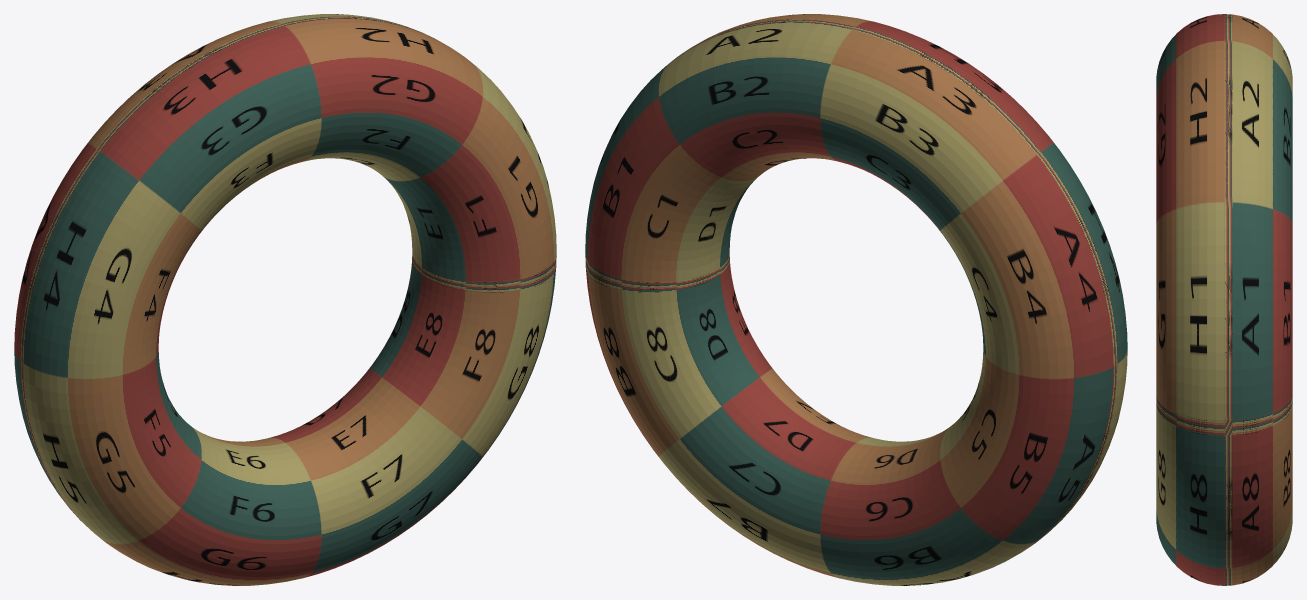
File: texture_torus_R6_r6.glb
The picture shows the model from 3 angles, left to right: view 1: azimuth 30°, elevation 25°; view 2: azimuth 150°, elevation 25°; view 3: azimuth 270°, elevation 25°; orthographic projection. The views are drawn at different scales.
Visible parts, largest first — view 1: world; view 2: world; view 3: world.
Part boxes in pixels (x1,y1,x2,y2): world: (14, 14, 556, 585); world: (585, 14, 1127, 585); world: (1156, 14, 1292, 585).
Bounding box in the file's own units: 30.67 × 30.67 × 7.32.
1 material, 1 textured.
